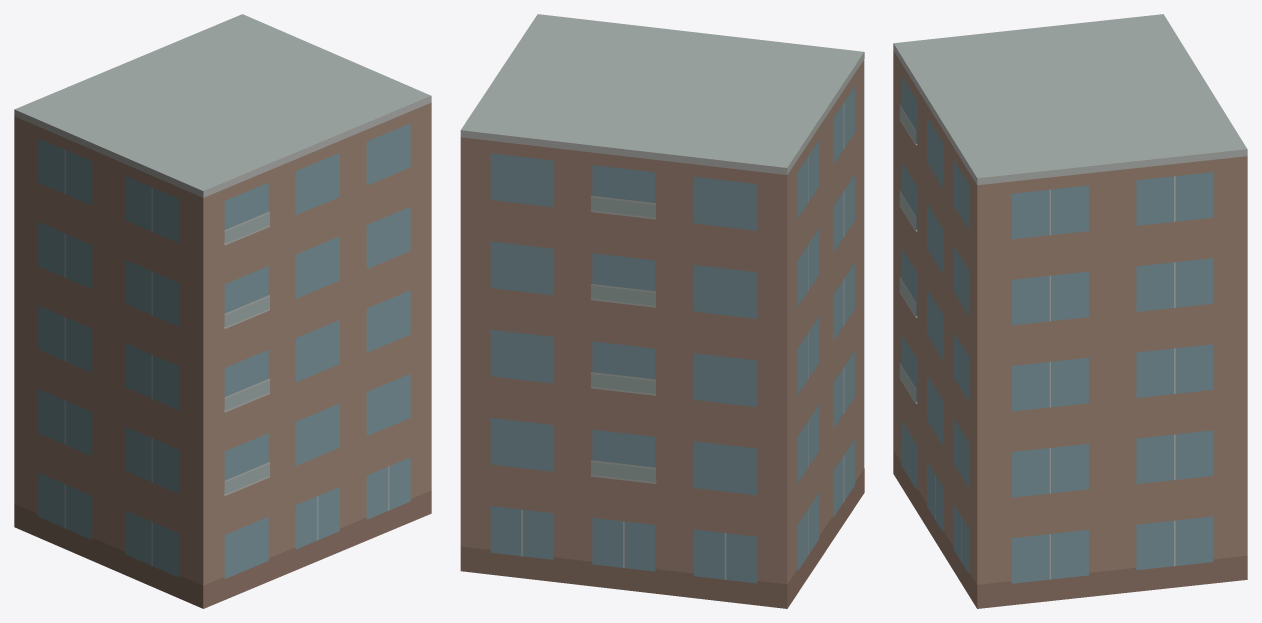
Rendered from survey-upis-32712939.glb.
The picture shows the model from 3 angles, left to right: view 1: azimuth 30°, elevation 25°; view 2: azimuth 150°, elevation 25°; view 3: azimuth 270°, elevation 25°; orthographic projection. The views are drawn at different scales.
Visible parts, largest first — view 1: survey-upis-32712939.tmp; view 2: survey-upis-32712939.tmp; view 3: survey-upis-32712939.tmp.
Part boxes in pixels (x1,y1,x2,y2): survey-upis-32712939.tmp: [14, 14, 431, 608]; survey-upis-32712939.tmp: [460, 14, 864, 608]; survey-upis-32712939.tmp: [893, 14, 1247, 608].
Size of the model in its own units: 12.5 by 15.25 by 11.38.
